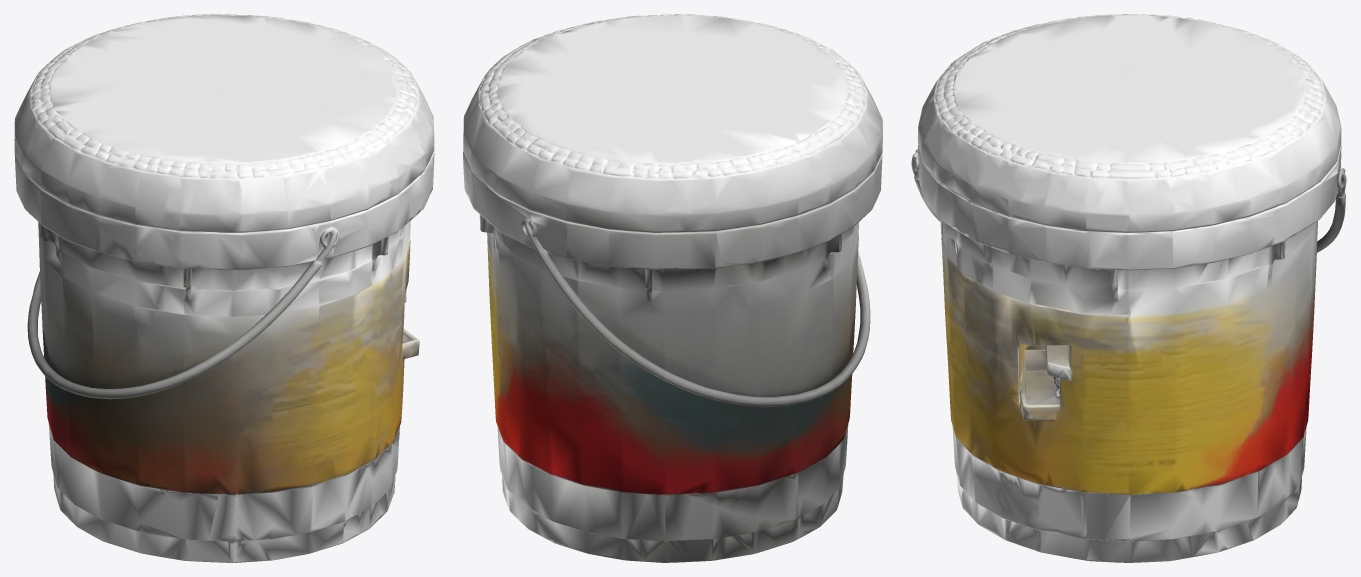
Rendered from yhbitucoat-4500.glb.
3 renders of one model, left to right at view 1: azimuth 30°, elevation 25°; view 2: azimuth 150°, elevation 25°; view 3: azimuth 270°, elevation 25°, orthographic.
Visible parts, largest first — view 1: tripo_node_110184bf-f0c0-4d20-8eac-395ba62af9f9; view 2: tripo_node_110184bf-f0c0-4d20-8eac-395ba62af9f9; view 3: tripo_node_110184bf-f0c0-4d20-8eac-395ba62af9f9.
Boxes of the visible parts, x1,y1,x2,y2 form: tripo_node_110184bf-f0c0-4d20-8eac-395ba62af9f9: (14, 14, 434, 562); tripo_node_110184bf-f0c0-4d20-8eac-395ba62af9f9: (463, 14, 882, 562); tripo_node_110184bf-f0c0-4d20-8eac-395ba62af9f9: (911, 14, 1346, 562).
Bounding box in the file's own units: 0.9524 × 0.9999 × 0.9791.
1 material, 1 textured.
